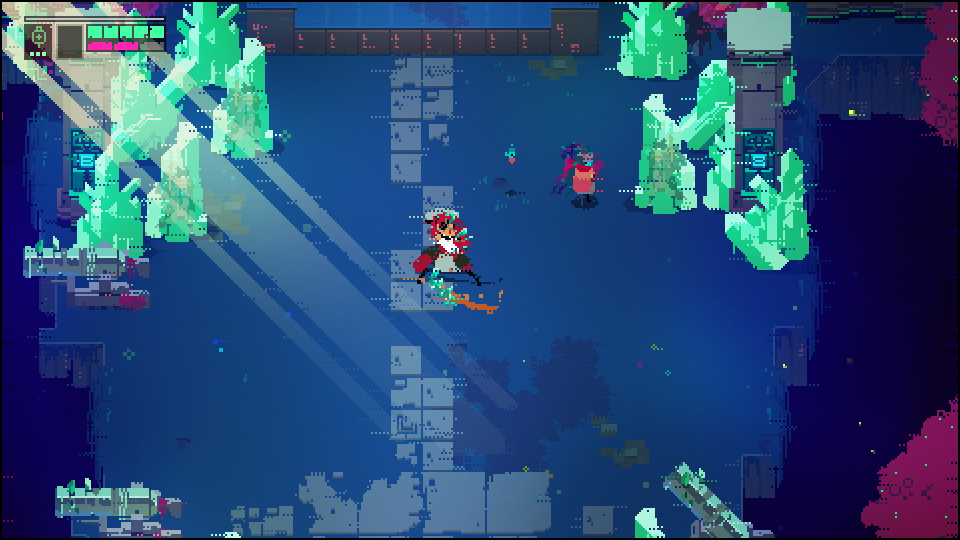hanged_man: (412, 205, 485, 309)
player: (571, 148, 596, 210)
